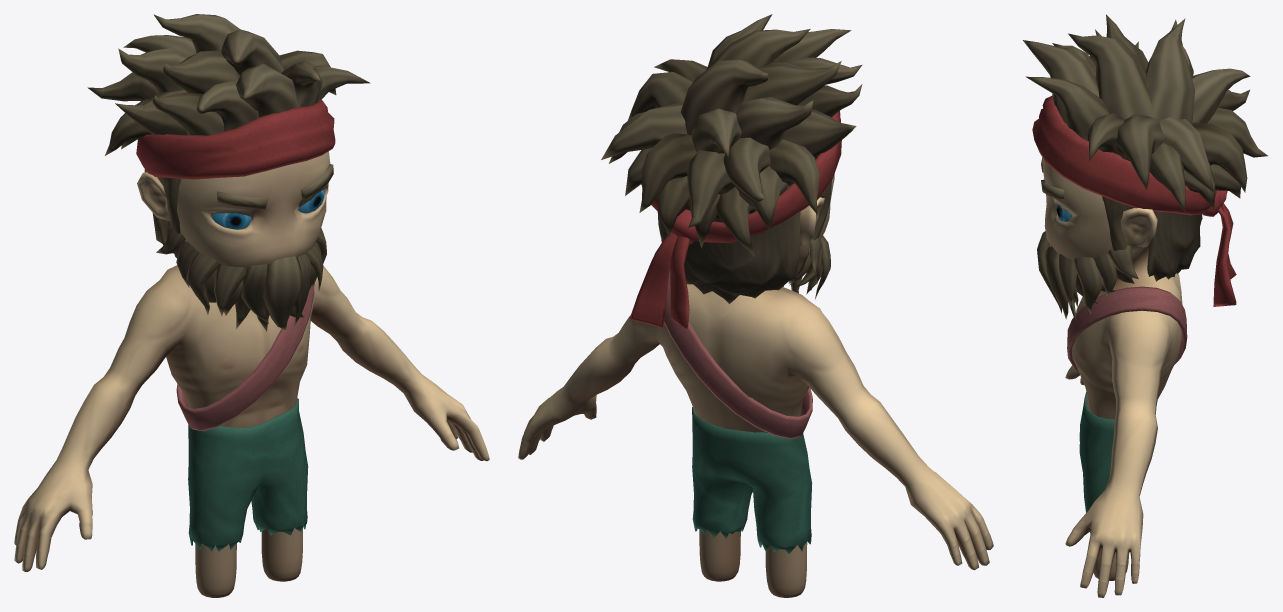
3 renders of one model, left to right at view 1: azimuth 30°, elevation 25°; view 2: azimuth 150°, elevation 25°; view 3: azimuth 270°, elevation 25°, orthographic. The views are drawn at different scales.
Visible parts, largest first — view 1: CC2; view 2: CC2; view 3: CC2.
Part boxes in pixels (x1,y1,x2,y2): CC2: (14, 14, 489, 597); CC2: (518, 14, 993, 597); CC2: (1023, 14, 1267, 597).
Bounding box in the file's own units: 129 × 149 × 64.1.
1 material, 1 textured.
